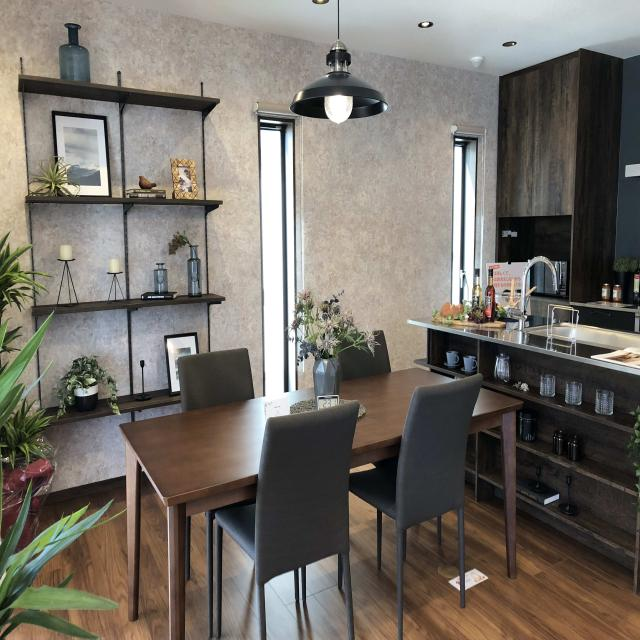modern chair: (217, 399, 361, 640), (363, 372, 484, 638)
modern shelf: (19, 51, 216, 356)
